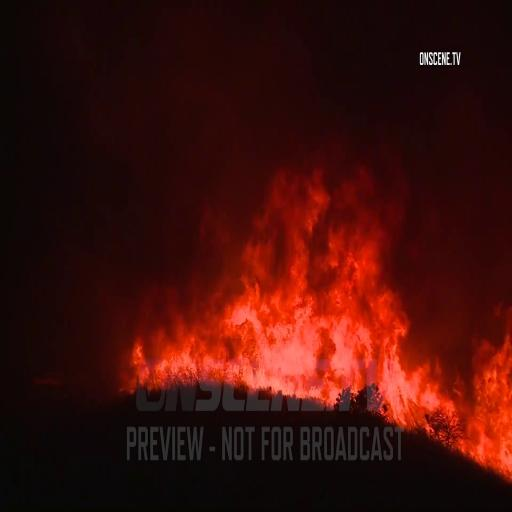fire: (241, 272, 395, 406), (469, 338, 512, 469)
